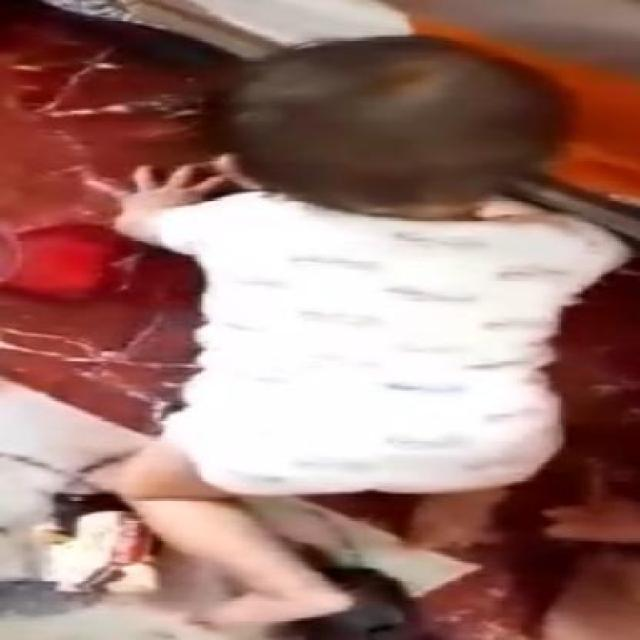baby: (114, 31, 628, 618)
